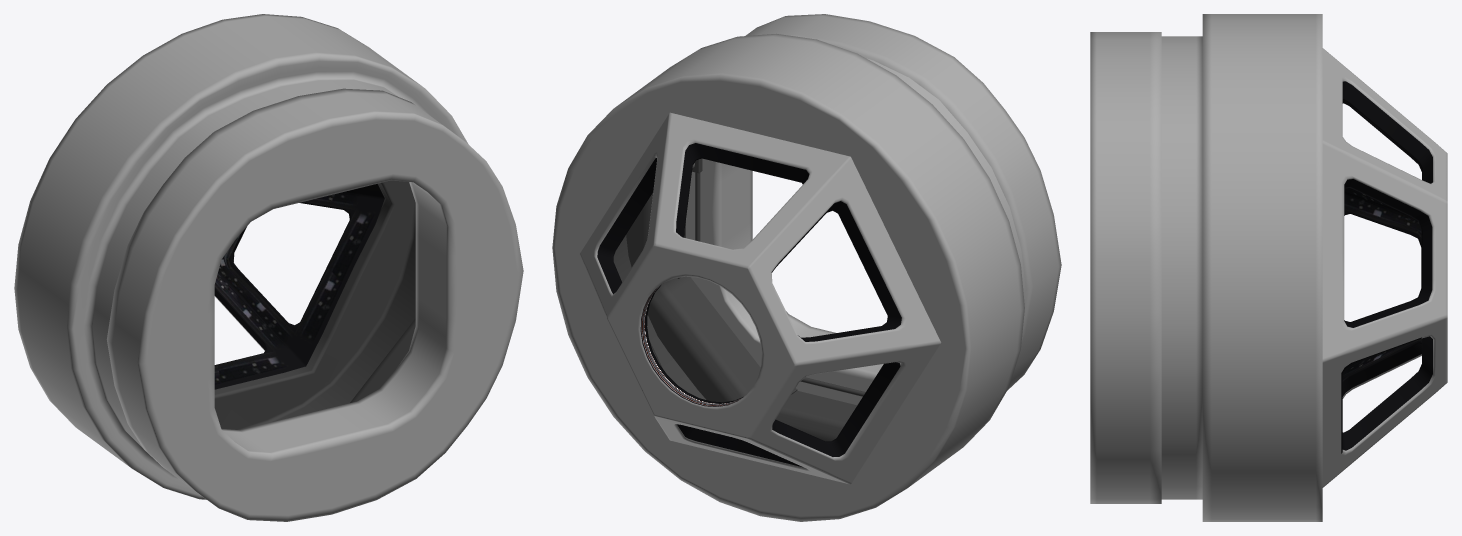
The model's file is cupola.glb.
3 renders of one model, left to right at view 1: azimuth 30°, elevation 25°; view 2: azimuth 150°, elevation 25°; view 3: azimuth 270°, elevation 25°, orthographic. The views are drawn at different scales.
Visible parts, largest first — view 1: Square entrance v2, Cupola Attachment v2, Cupola Rotated, OCTOGON; view 2: Cupola Attachment v2, Cupola Rotated, Square entrance v2, OCTOGON, HANDLE; view 3: Cupola Attachment v2, Square entrance v2, Cupola Rotated.
Boxes of the visible parts, x1,y1,x2,y2 form: Square entrance v2: (106, 88, 523, 521); Cupola Attachment v2: (14, 14, 467, 499); Cupola Rotated: (214, 184, 384, 389); OCTOGON: (350, 318, 415, 402); Cupola Attachment v2: (552, 33, 1025, 521); Cupola Rotated: (579, 112, 941, 484); Square entrance v2: (686, 14, 1061, 405); OCTOGON: (626, 192, 857, 441); HANDLE: (677, 158, 865, 396); Cupola Attachment v2: (1161, 14, 1322, 521); Square entrance v2: (1090, 32, 1161, 503); Cupola Rotated: (1322, 48, 1447, 487).
Size of the model in its own units: 3.25 by 3.25 by 2.28.
3 materials, 1 textured.
